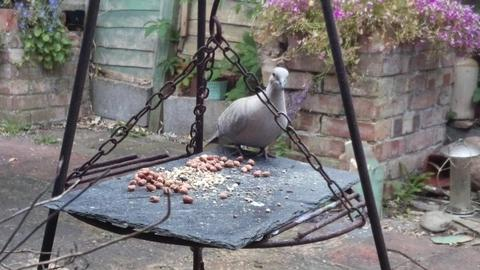collared dove: (203, 67, 289, 160)
